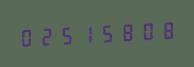eight: (117, 18, 136, 44), (157, 16, 176, 42)
five: (57, 22, 76, 48), (97, 19, 116, 45)
one: (77, 21, 96, 47)
two: (37, 23, 56, 49)
zero: (17, 24, 36, 50), (137, 17, 156, 43)
